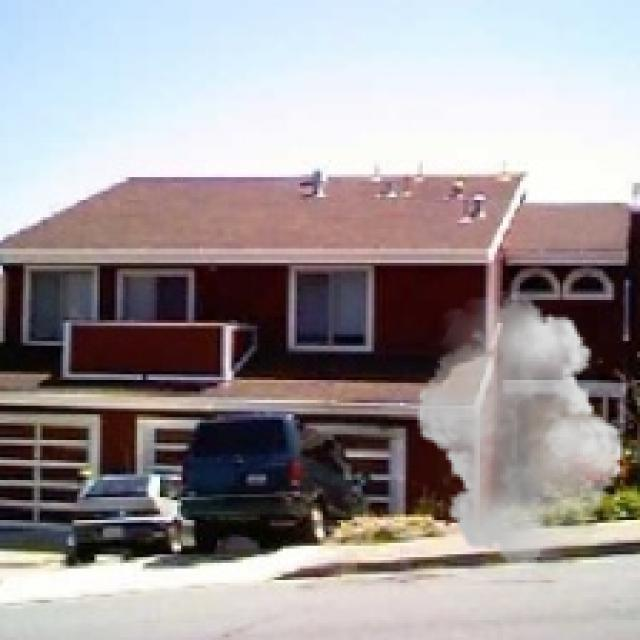Smoke: (408, 292, 632, 574)
